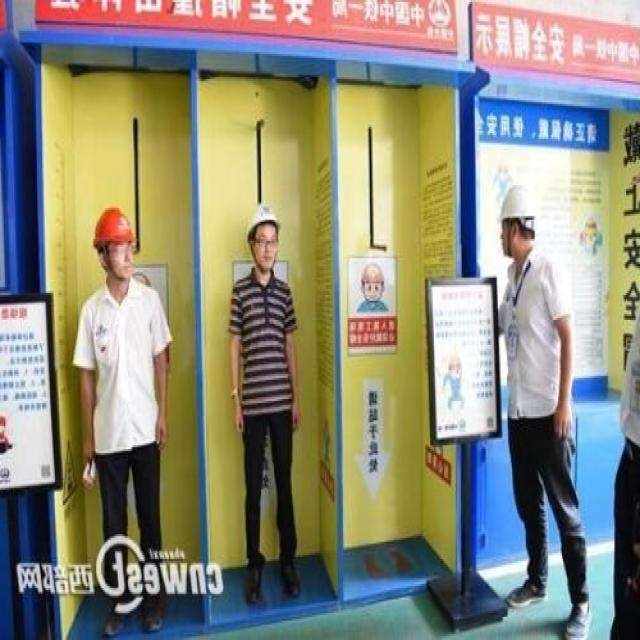Con_Casco: (91, 210, 137, 284), (249, 208, 281, 271)
